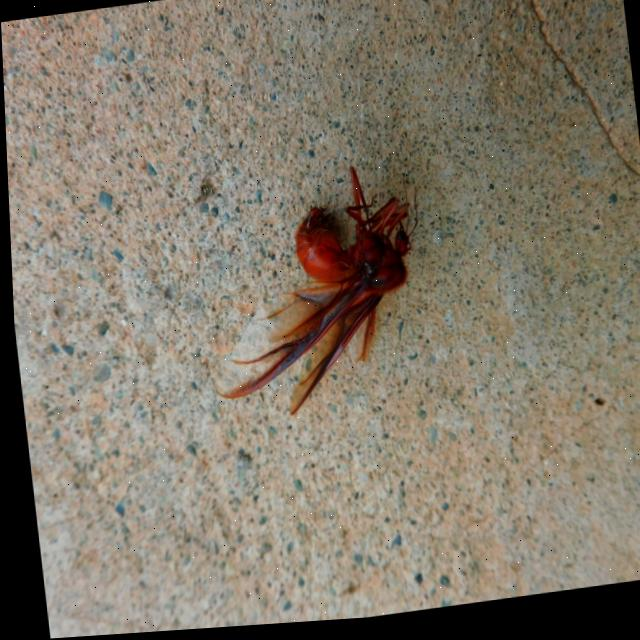Dead-Male-Alate: (189, 161, 437, 428)
